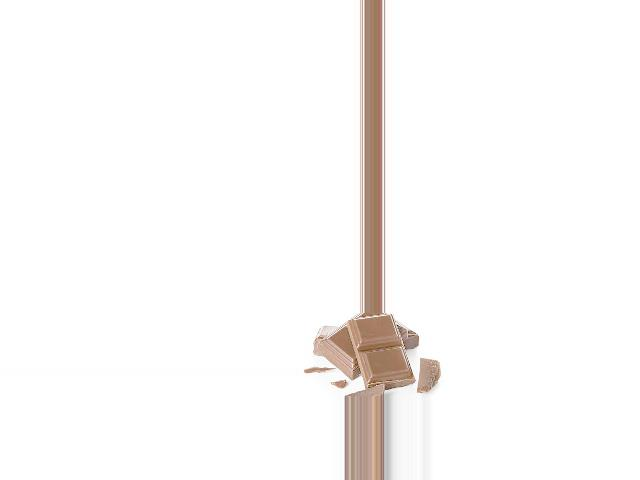chocolate: (346, 317, 412, 387)
